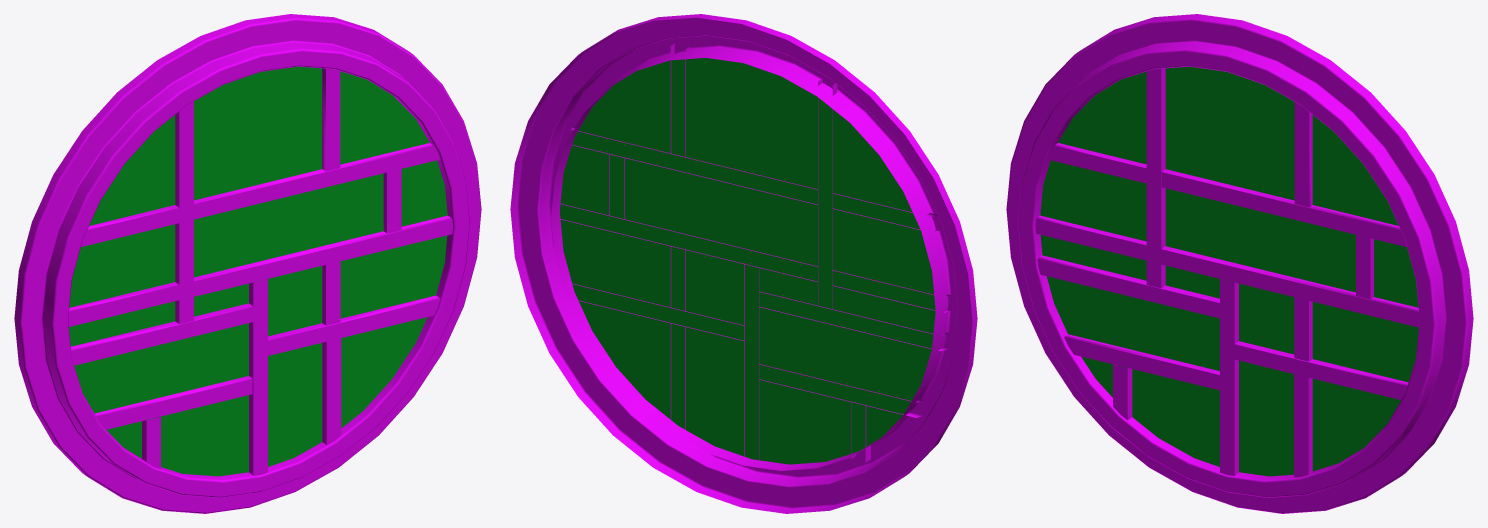
The model's file is Fenetre_Ronde_Grande_4x4x0_04.FBX.
3 renders of one model, left to right at view 1: azimuth 30°, elevation 25°; view 2: azimuth 150°, elevation 25°; view 3: azimuth 330°, elevation 25°, orthographic.
Parts seen in each view (by area): view 1: Fenetre_Ronde_Grande_4x4x0_04; view 2: Fenetre_Ronde_Grande_4x4x0_04; view 3: Fenetre_Ronde_Grande_4x4x0_04.
Part boxes in pixels (x1,y1,x2,y2): Fenetre_Ronde_Grande_4x4x0_04: (14, 14, 481, 513); Fenetre_Ronde_Grande_4x4x0_04: (510, 14, 977, 513); Fenetre_Ronde_Grande_4x4x0_04: (1006, 14, 1473, 513).
Size of the model in its own units: 299 by 299 by 18.32.
